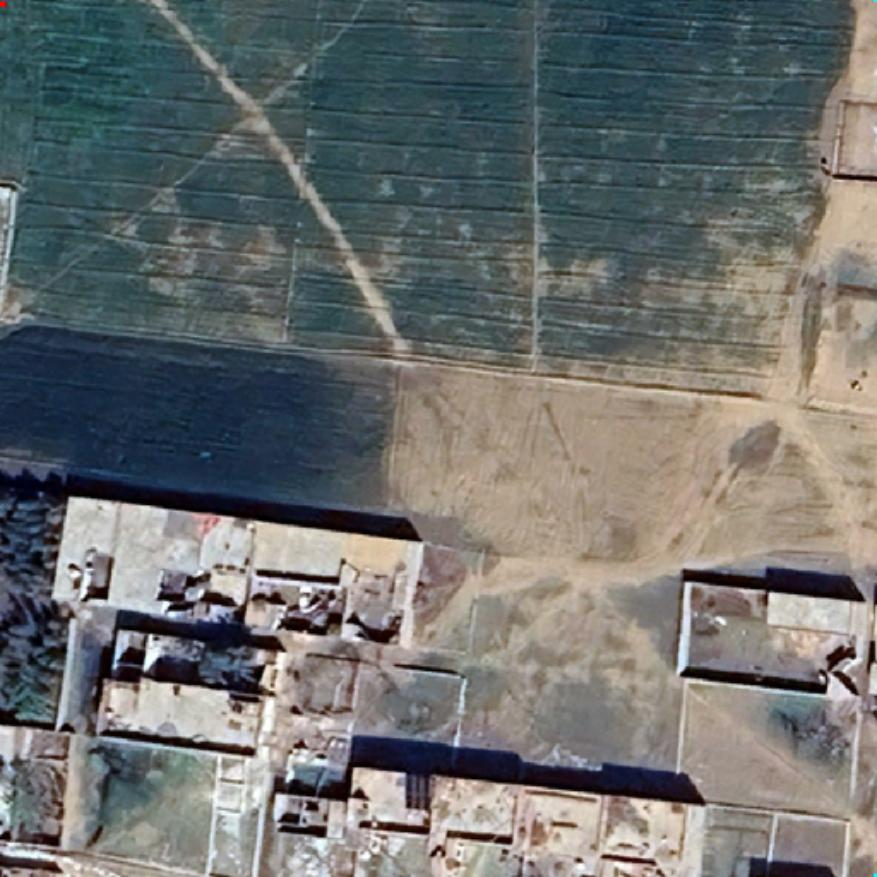Solarpanel: (402, 766, 434, 814)
